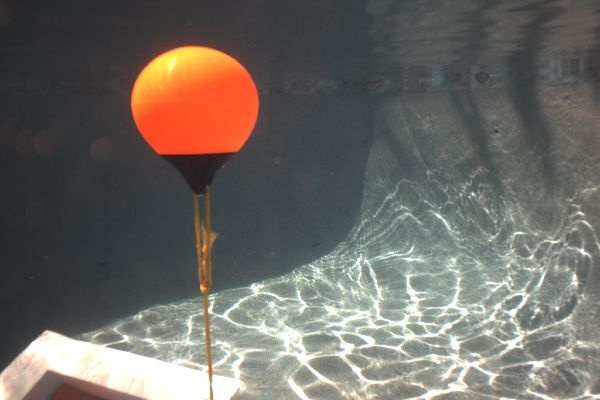bin: (0, 330, 240, 400)
bin_rouge: (49, 384, 105, 400)
buoy: (131, 45, 259, 194)
